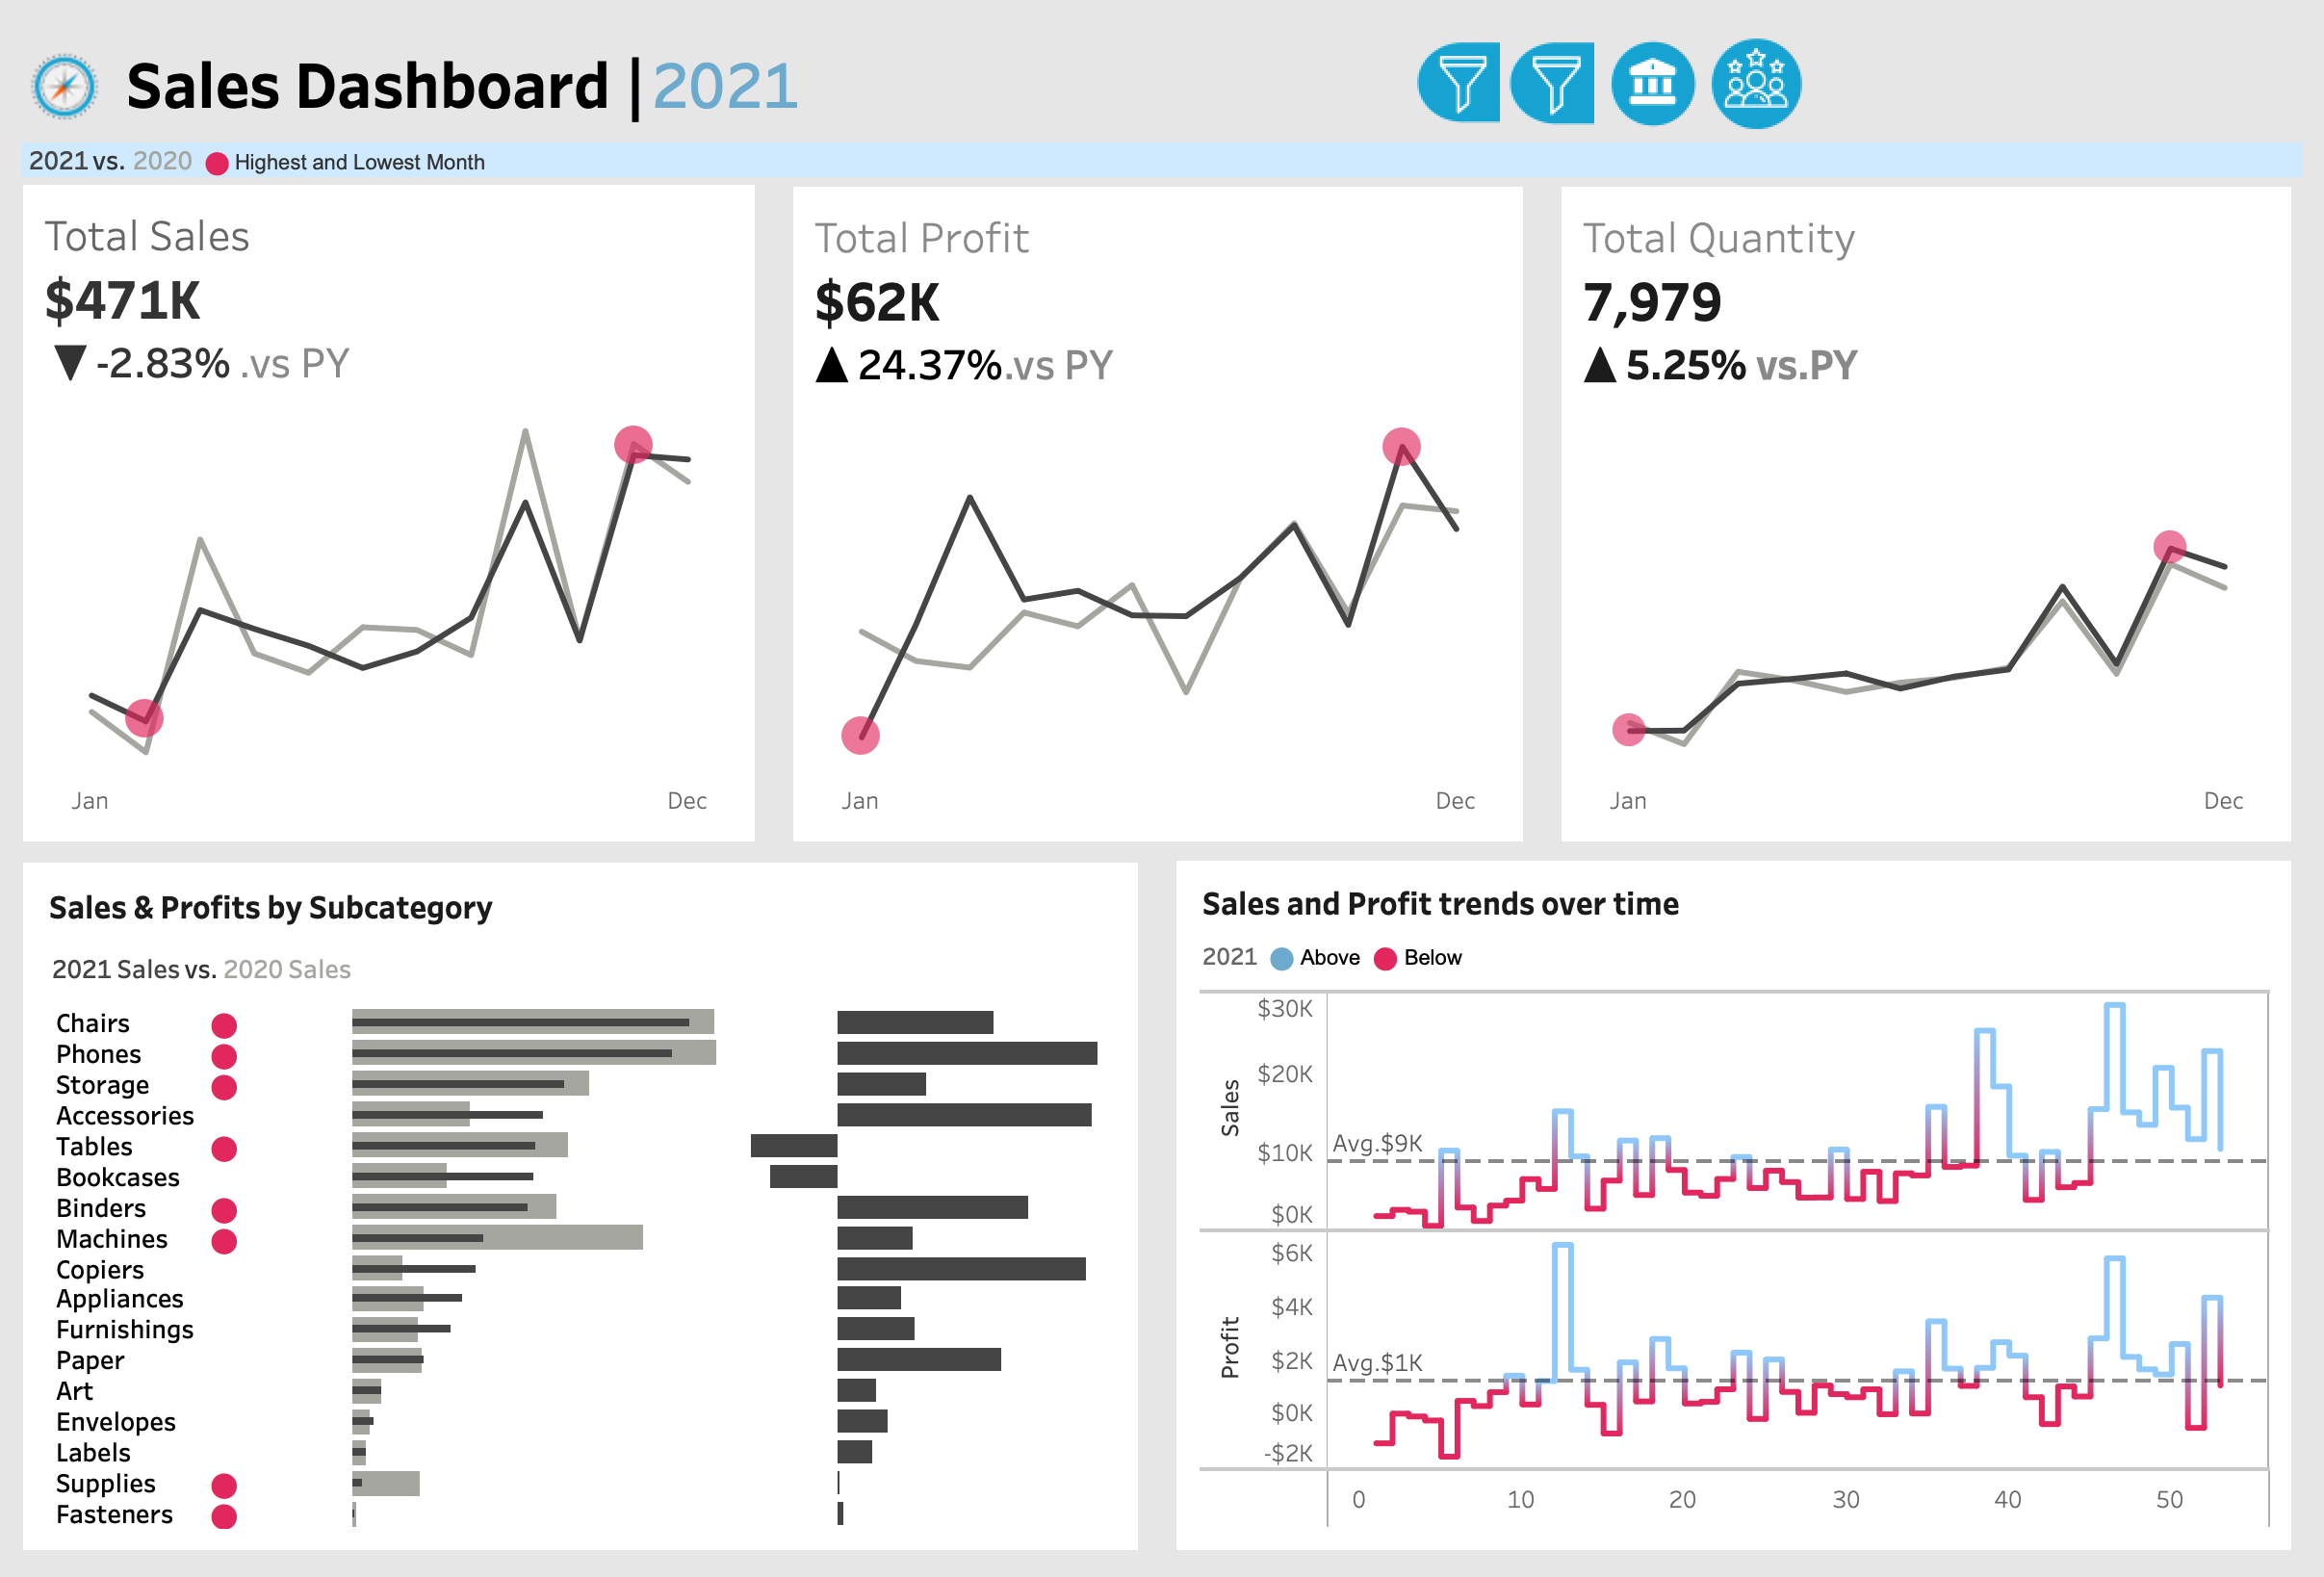

What the dashboard file says about the page in this screenshot:
{"tool":"tableau","page":{"name":"Sales Dashboard","canvas":[1200,800],"ordinal":1},"visuals":[{"type":"image","param":"/Users/ishaanbhingardev/Desktop/sales-dashboard-project 2/images/Icon - Logo.png","box":[1,1,57,53]},{"type":"text","box":[58,1,719,53]},{"type":"dashboard-object","box":[777,1,54,53]},{"type":"dashboard-object","box":[831,1,53,53]},{"type":"dashboard-object","box":[884,1,54,53]},{"type":"dashboard-object","box":[734,4,45,46]},{"type":"text","box":[1043,5,150,115]},{"type":"parameter","param":"[Parameters].[Parameter 1]","box":[1038,22,160,44]},{"type":"worksheet","title":"legend 2","mark":"Automatic","box":[1,54,1198,26]},{"type":"worksheet","title":"Sales KPI","mark":"Automatic","rows":["Calculation_0729393617989641"],"cols":["Order Date"],"box":[1,80,400,351]},{"type":"worksheet","title":"Profit KPI","mark":"Automatic","rows":["Calculation_0729393937022996"],"cols":["Order Date"],"box":[401,80,399,351]},{"type":"worksheet","title":"Quantity KPI","mark":"Automatic","rows":["Calculation_0729393999593496"],"cols":["Order Date"],"box":[800,80,399,351]},{"type":"filter","title":"Sales KPI","param":"[federated.0zgt3mq0yqzbiw1cwy33n06axdhs].[none:Category:nk]","box":[1043,120,150,65]},{"type":"filter","title":"Sales KPI","param":"[federated.0zgt3mq0yqzbiw1cwy33n06axdhs].[none:Sub-Category:nk]","box":[1043,185,150,86]},{"type":"text","box":[1043,271,150,29]},{"type":"filter","title":"Sales KPI","param":"[federated.0zgt3mq0yqzbiw1cwy33n06axdhs].[none:Region:nk]","box":[1043,300,150,52]},{"type":"filter","title":"Sales KPI","param":"[federated.0zgt3mq0yqzbiw1cwy33n06axdhs].[none:State:nk]","box":[1043,352,150,52]},{"type":"filter","title":"Sales KPI","param":"[federated.0zgt3mq0yqzbiw1cwy33n06axdhs].[none:City:nk]","box":[1043,404,150,52]},{"type":"text","box":[617,438,565,30]},{"type":"text","box":[18,439,565,32]},{"type":"text","box":[617,468,565,25]},{"type":"worksheet","title":"legend 1","mark":"Automatic","box":[18,471,565,32]},{"type":"worksheet","title":"Weekly trends","mark":"Automatic","rows":["Calculation_0729393607245827","Calculation_0729393926295566"],"cols":["Order Date"],"box":[617,493,565,289]},{"type":"worksheet","title":"Sub category comparison","mark":"Bar","rows":["Sub-Category","Calculation_0729394025136157"],"cols":["Calculation_0729393609379844","Calculation_0729393607245827","Calculation_0729393926295566"],"box":[18,503,565,278.9]}]}

Visuals, with their boxes in screenshot pixels (x1, y1, x2, y2), scaled from the page's 1200x800 canvas onto the 2324x1577 screenshot:
image: [x1=2, y1=2, x2=113, y2=107]
text: [x1=113, y1=2, x2=1505, y2=107]
dashboard-object: [x1=1505, y1=2, x2=1610, y2=107]
dashboard-object: [x1=1610, y1=2, x2=1712, y2=107]
dashboard-object: [x1=1712, y1=2, x2=1817, y2=107]
dashboard-object: [x1=1422, y1=8, x2=1509, y2=98]
text: [x1=2020, y1=10, x2=2311, y2=237]
parameter: [x1=2010, y1=43, x2=2320, y2=130]
"legend 2" worksheet: [x1=2, y1=107, x2=2322, y2=158]
"Sales KPI" worksheet: [x1=2, y1=158, x2=777, y2=849]
"Profit KPI" worksheet: [x1=777, y1=158, x2=1549, y2=849]
"Quantity KPI" worksheet: [x1=1549, y1=158, x2=2322, y2=849]
"Sales KPI" filter: [x1=2020, y1=237, x2=2311, y2=365]
"Sales KPI" filter: [x1=2020, y1=365, x2=2311, y2=534]
text: [x1=2020, y1=534, x2=2311, y2=591]
"Sales KPI" filter: [x1=2020, y1=591, x2=2311, y2=694]
"Sales KPI" filter: [x1=2020, y1=694, x2=2311, y2=796]
"Sales KPI" filter: [x1=2020, y1=796, x2=2311, y2=899]
text: [x1=1195, y1=864, x2=2289, y2=922]
text: [x1=35, y1=866, x2=1129, y2=928]
text: [x1=1195, y1=922, x2=2289, y2=971]
"legend 1" worksheet: [x1=35, y1=928, x2=1129, y2=992]
"Weekly trends" worksheet: [x1=1195, y1=971, x2=2289, y2=1541]
"Sub category comparison" worksheet (Bar marks): [x1=35, y1=992, x2=1129, y2=1541]
